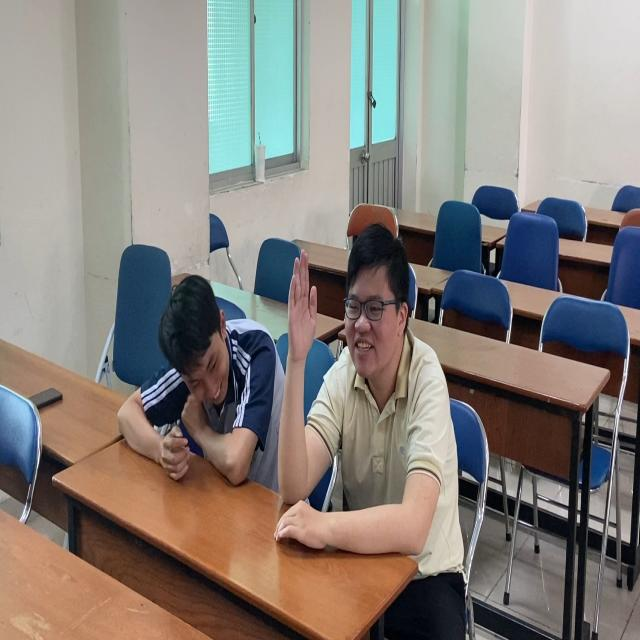raise_hand: (278, 201, 451, 566)
